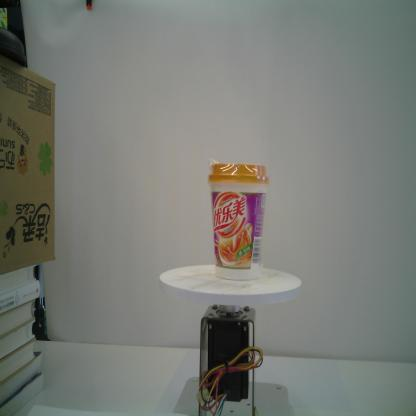Instant Drink: (206, 160, 270, 280)
